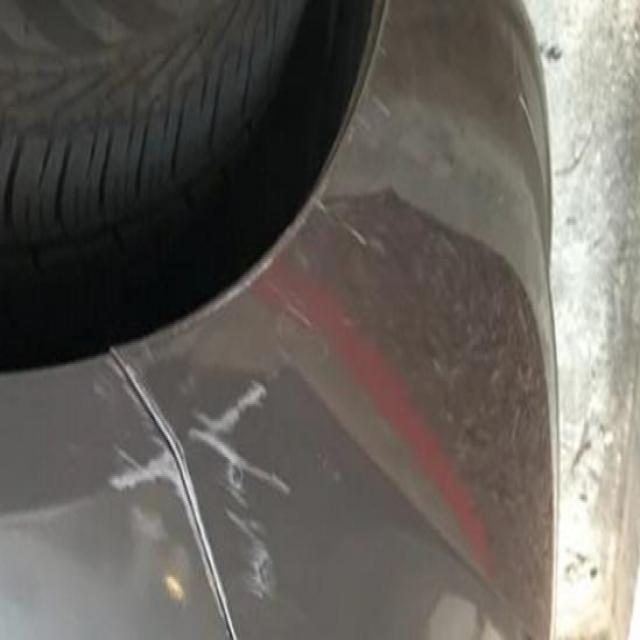scratch: (96, 343, 314, 640)
